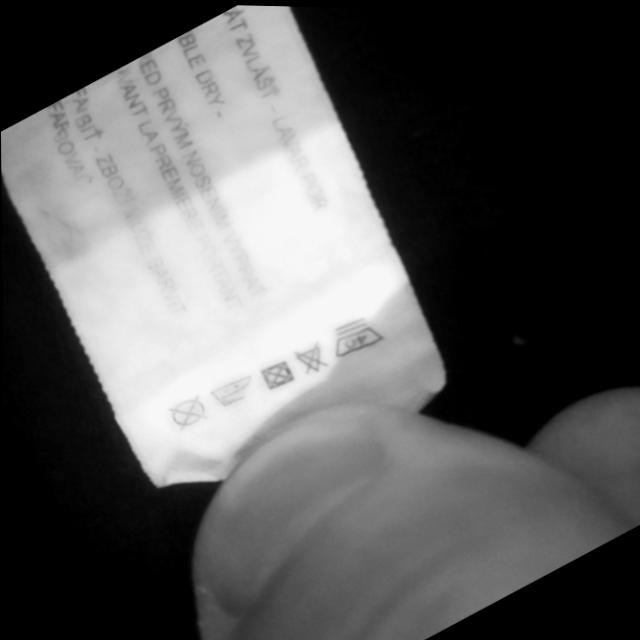40C: (332, 316, 387, 360)
DN_bleach: (297, 344, 328, 374)
DN_dry_clean: (170, 393, 209, 429)
DN_tumble_dry: (261, 359, 296, 391)
iron_low: (213, 371, 256, 407)
